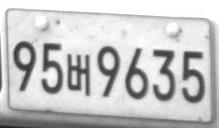3: (152, 48, 176, 101)
5: (180, 50, 205, 103), (40, 43, 64, 95)
6: (124, 48, 149, 99)
9: (12, 40, 37, 92), (96, 45, 120, 96)
버: (66, 53, 90, 96)
